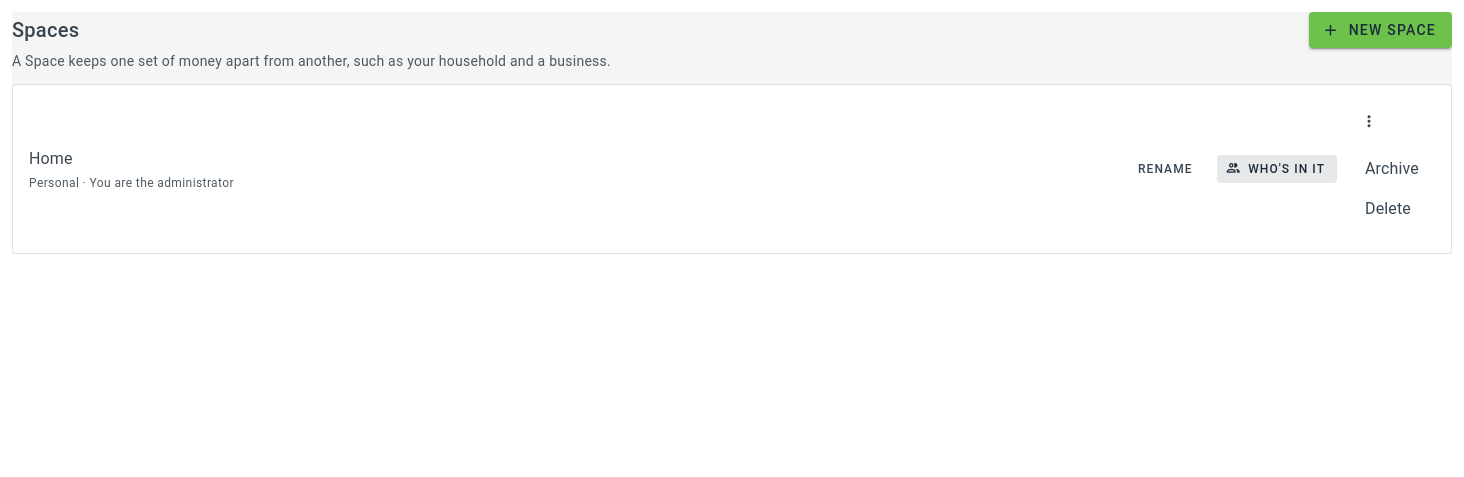
Test: SpacesPanel: removing a Space › keeps the dialog open and explains when a Space is not empty
Click the list item "Delete".
click(1392, 209)  # box left=1349, top=189, right=1435, bottom=229
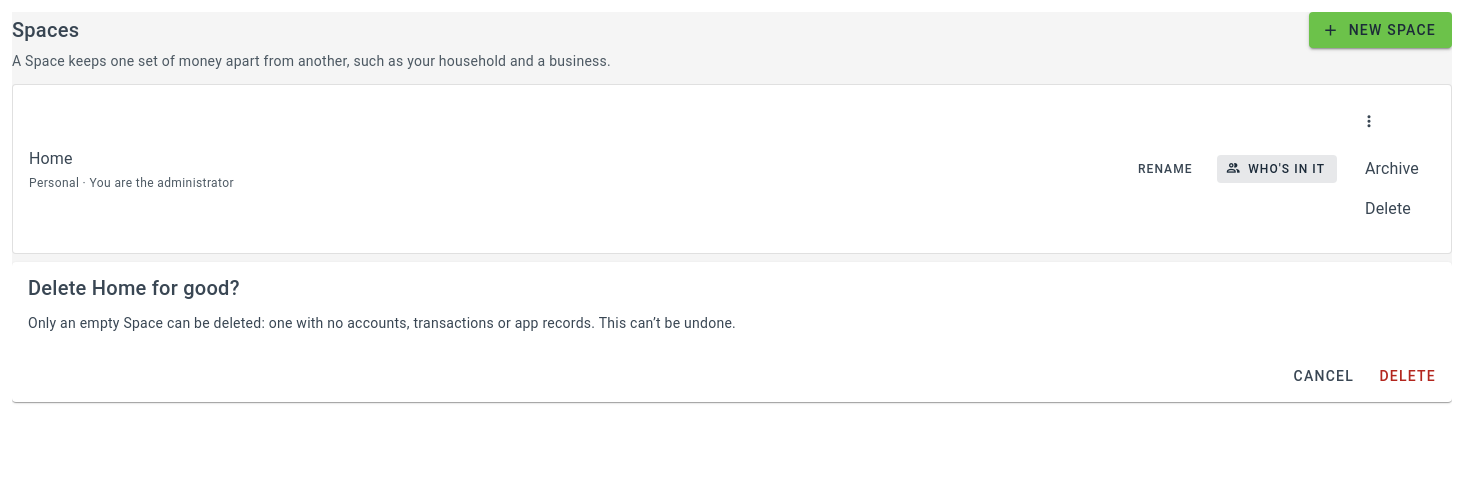
Click the button "Delete".
click(1407, 376)  # box left=1370, top=358, right=1444, bottom=394
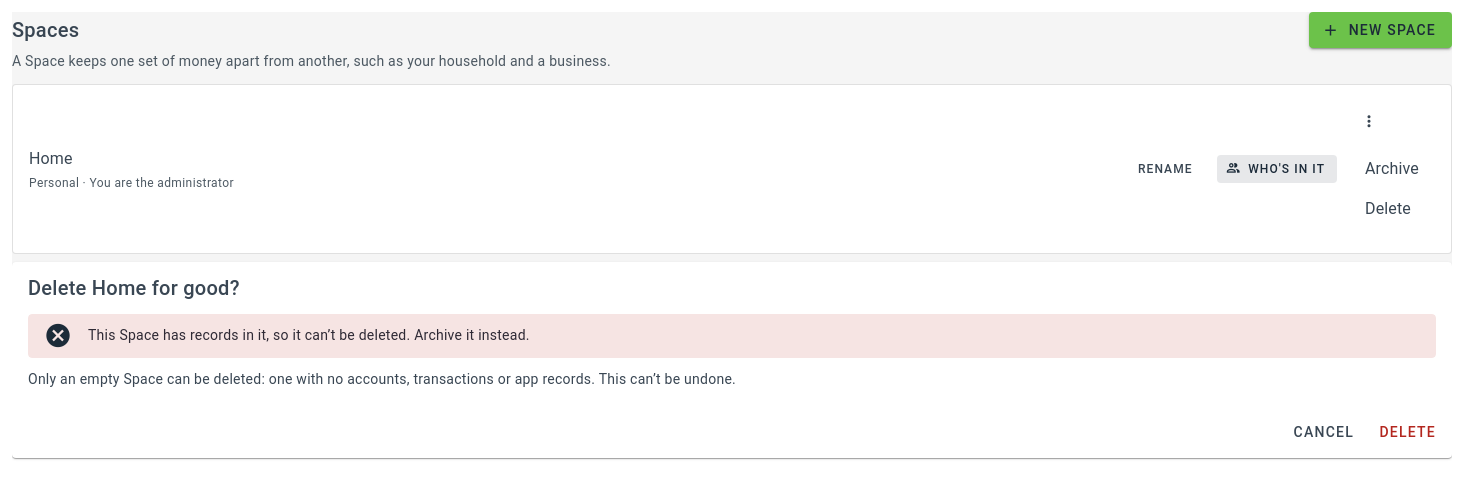
Now the text "Delete Home for good?" is shown, box left=28, top=276, right=240, bottom=300
Now the text "Archive it instead" is shown, box left=88, top=327, right=530, bottom=343
